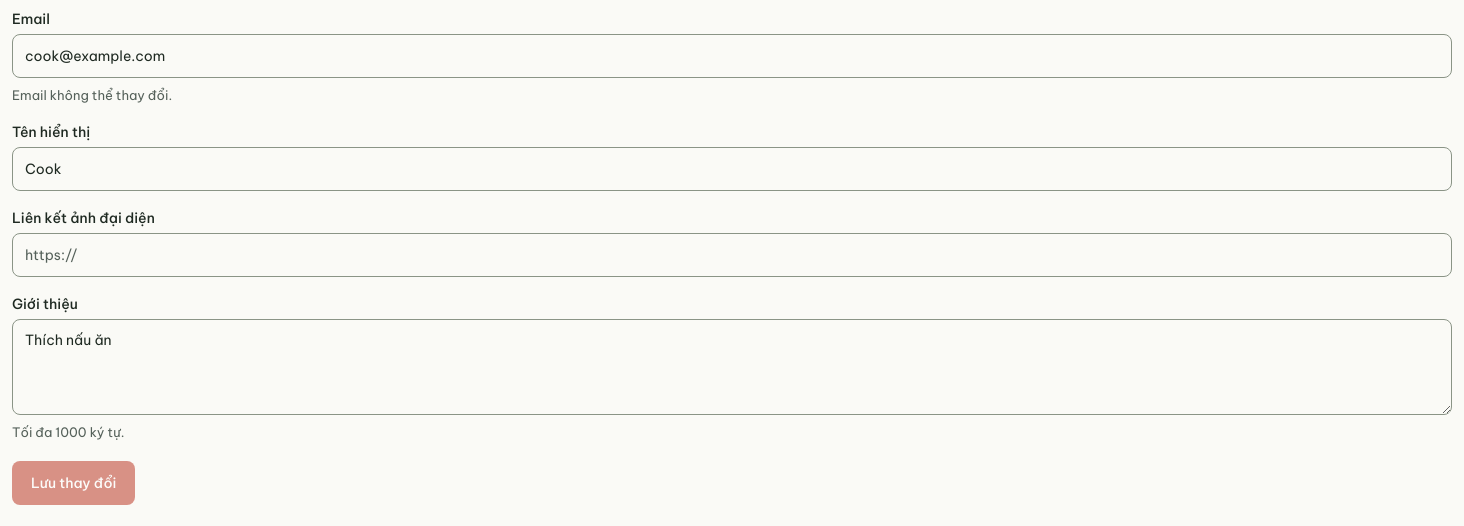
it: ProfileForm › sends the edited fields and null for a cleared bio
The width and height of the screenshot is (1464, 526).
Replace the text in the field labelled "Tên hiển thị" with "Chef": coordinates (732, 169) x1=12 y1=147 x2=1452 y2=191
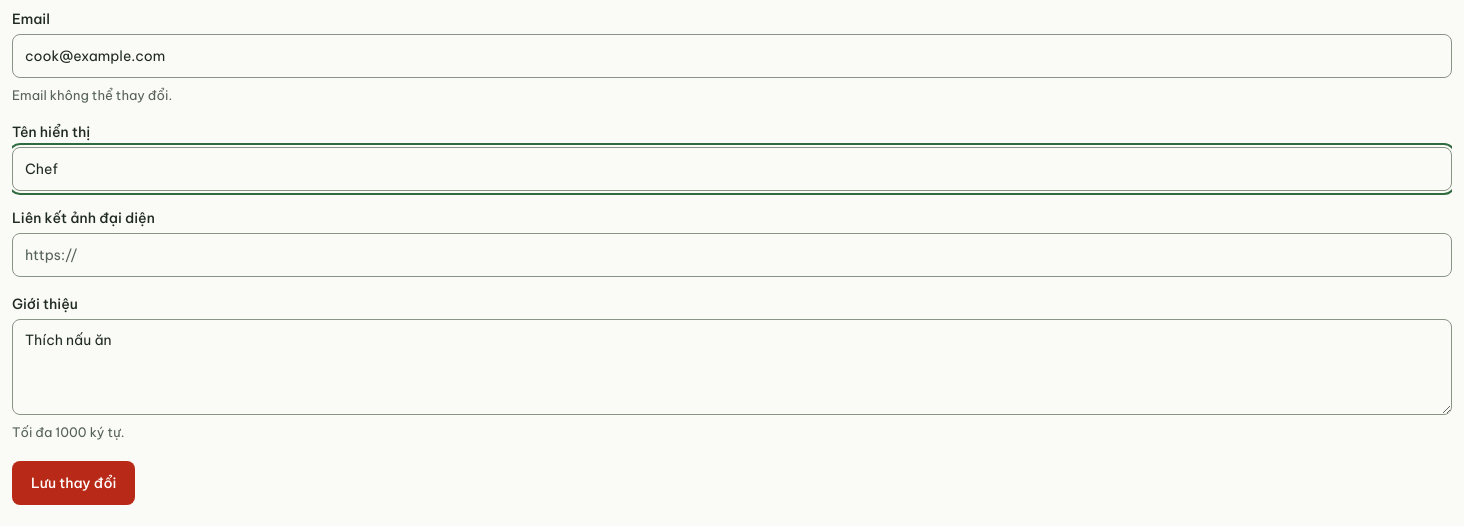
Clear the text box labelled "Giới thiệu": coordinates (732, 367) x1=12 y1=319 x2=1452 y2=415
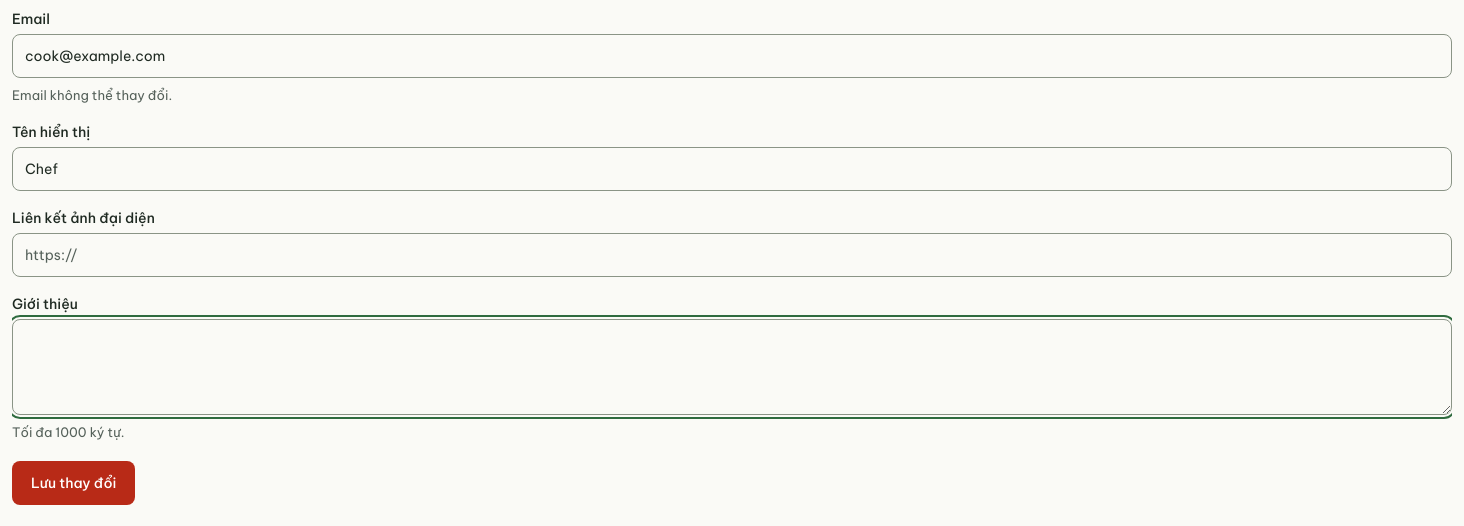
Click the button "Lưu thay đổi": coordinates (74, 483) x1=12 y1=461 x2=135 y2=505
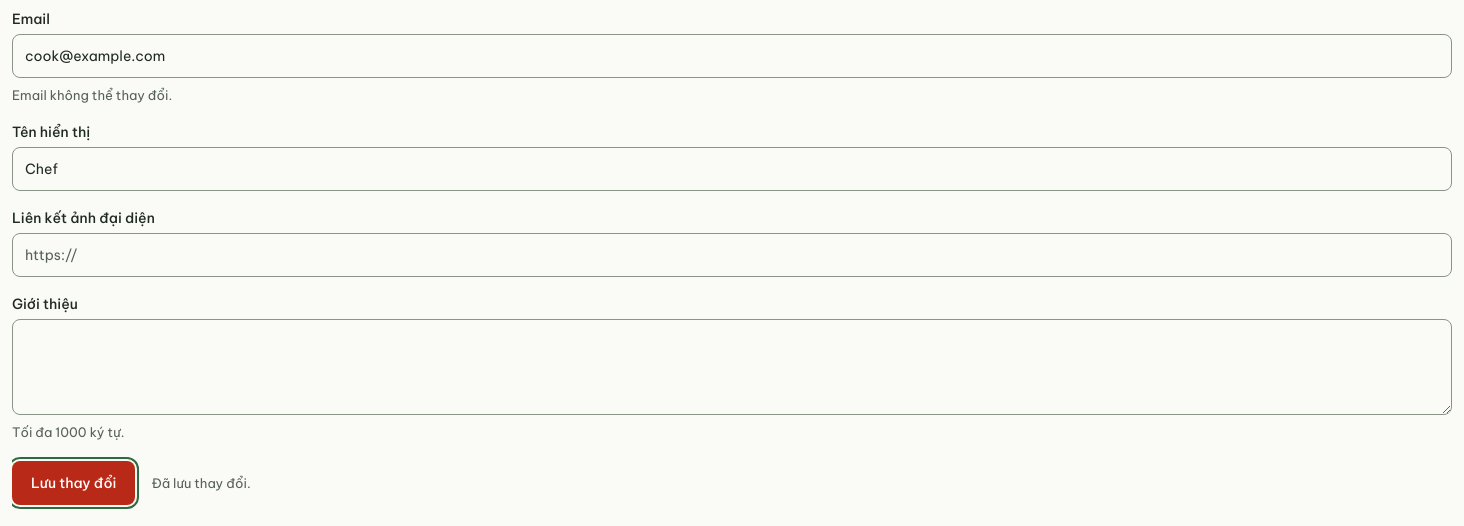
Expected: the message reads "Đã lưu thay đổi.", x1=151 y1=475 x2=251 y2=491
